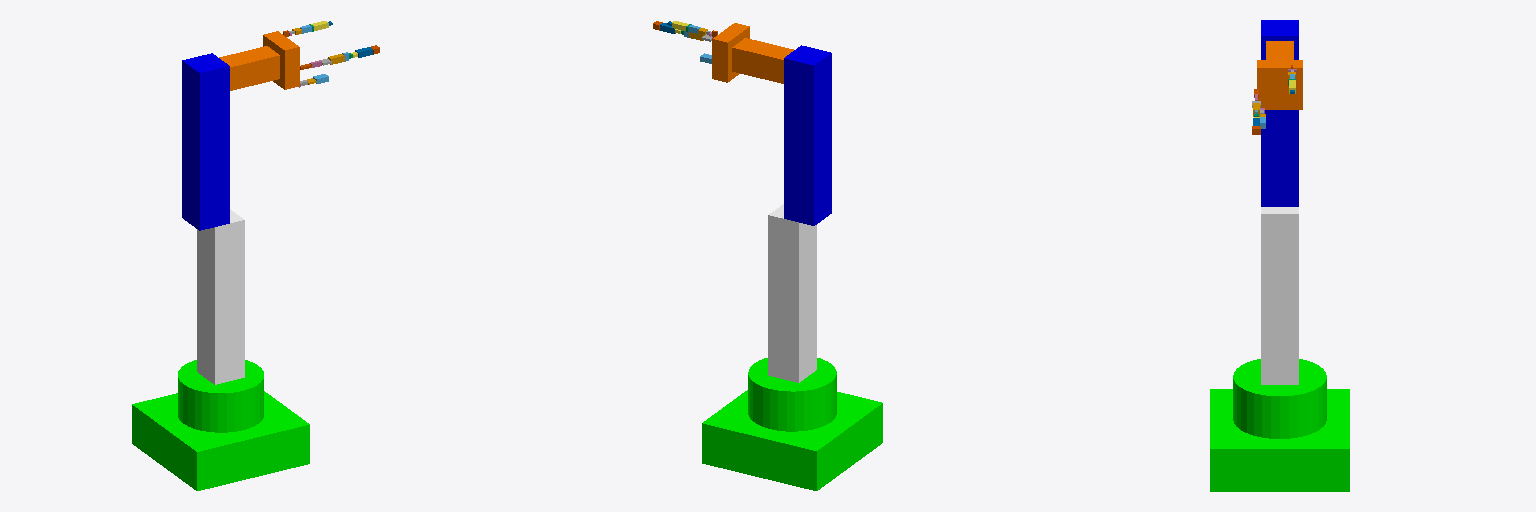
The robot description file, URDF, robot "robot":
<?xml version='1.0' encoding='utf-8'?>
<robot name="robot">
  <link name="base_link">
    <visual>
      <origin xyz="0 0 0.125" rpy="0 0 0" />
      <geometry>
        <box size="0.75 0.75 0.25" />
      </geometry>
      <material name="green" />
    </visual>
    <visual>
      <origin xyz="0 0 0.375" rpy="0 0 0" />
      <geometry>
        <cylinder length="0.25" radius="0.25" />
      </geometry>
      <material name="green">
        <color rgba="0 1 0 1" />
      </material>
    </visual>
    <collision>
      <geometry>
        <box size="0.75 0.75 0.5" />
      </geometry>
    </collision>
    <inertial>
      <mass value="0.5" />
      <inertia ixx="0.034" ixy="0.0" ixz="0.0" iyy="0.034" iyz="0.0" izz="0.034" />
    </inertial>
  </link>
  <link name="support_link">
    <visual>
      <origin xyz="0 0 0.5" rpy="0 0 0" />
      <geometry>
        <box size="0.2 0.2 1" />
      </geometry>
      <material name="white">
        <color rgba="1 1 1 1" />
      </material>
    </visual>
    <collision>
      <geometry>
        <box size="0.2 0.2 1" />
      </geometry>
    </collision>
    <inertial>
      <mass value="0.1" />
      <inertia ixx="0.01" ixy="0.0" ixz="0.0" iyy="0.01" iyz="0.0" izz="0.01" />
    </inertial>
  </link>
  <joint name="support_joint" type="continuous">
    <origin xyz="0 0 0.5" rpy="0 0 0" />
    <parent link="base_link" />
    <child link="support_link" />
    <axis xyz="0 0 1" />
  </joint>
  <link name="arm_link">
    <visual>
      <origin xyz="0 0 0.5" rpy="0 0 0" />
      <geometry>
        <box size="0.2 0.2 1" />
      </geometry>
      <material name="blue">
        <color rgba="0 0 1 1" />
      </material>
    </visual>
    <collision>
      <geometry>
        <box size="0.2 0.2 1" />
      </geometry>
    </collision>
    <inertial>
      <mass value="0.1" />
      <inertia ixx="0.01" ixy="0.0" ixz="0.0" iyy="0.01" iyz="0.0" izz="0.01" />
    </inertial>
  </link>
  <joint name="arm_joint" type="revolute">
    <origin xyz="-0.1 0 1" rpy="0 0 0" />
    <parent link="support_link" />
    <child link="arm_link" />
    <axis xyz="0 1 0" />
    <limit lower="-3.14" upper="3.14" effort="1.0" velocity="1.0" />
  </joint>
  <link name="wrist_link">
    <visual>
      <origin xyz="0 0 0.25" rpy="0 0 0" />
      <geometry>
        <box size="0.15 0.15 0.5" />
      </geometry>
      <material name="orange">
        <color rgba="1 0.5 0 1" />
      </material>
    </visual>
    <collision>
      <geometry>
        <box size="0.15 0.15 0.5" />
      </geometry>
    </collision>
    <inertial>
      <mass value="0.1" />
      <inertia ixx="0.01" ixy="0.0" ixz="0.0" iyy="0.01" iyz="0.0" izz="0.01" />
    </inertial>
  </link>
  <joint name="wrist_joint" type="fixed">
    <origin xyz="0 0 0.9" rpy="0 1.571 0" />
    <parent link="arm_link" />
    <child link="wrist_link" />
  </joint>
  <link name="palm_link">
    <visual>
      <origin xyz="0 0 0.05" rpy="0 0 0" />
      <geometry>
        <box size="0.25 0.25 0.1" />
      </geometry>
      <material name="orange" />
    </visual>
    <collision>
      <geometry>
        <box size="0.25 0.25 0.1" />
      </geometry>
    </collision>
    <inertial>
      <mass value="0.1" />
      <inertia ixx="0.01" ixy="0.0" ixz="0.0" iyy="0.01" iyz="0.0" izz="0.01" />
    </inertial>
  </link>
  <joint name="palm_joint" type="fixed">
    <origin xyz="0 0 0.45" rpy="0 0 0" />
    <parent link="wrist_link" />
    <child link="palm_link" />
  </joint>
  <link name="finger_link_0_0">
    <visual>
      <origin xyz="0 0 0.0165" rpy="0 0 0" />
      <geometry>
        <box size="0.038 0.012 0.033" />
      </geometry>
    </visual>
    <collision>
      <geometry>
        <box size="0.038 0.012 0.033" />
      </geometry>
    </collision>
    <inertial>
      <mass value="0.005" />
      <inertia ixx="0.0" iyy="0.0" izz="0.0" ixy="0" ixz="0" iyz="0" />
    </inertial>
  </link>
  <joint name="finger_joint_palm_link_to_finger_link_0_0" type="revolute">
    <origin xyz="-0.125 0.065 0.1" rpy="0 0 0" />
    <parent link="palm_link" />
    <child link="finger_link_0_0" />
    <axis xyz="0.0 -1.0 0.0" />
    <limit lower="-3.142" upper="3.142" effort="10" velocity="10" />
  </joint>
  <link name="finger_link_0_1">
    <visual>
      <origin xyz="0 0 0.0055" rpy="0 0 0" />
      <geometry>
        <box size="0.014 0.049 0.011" />
      </geometry>
    </visual>
    <collision>
      <geometry>
        <box size="0.014 0.049 0.011" />
      </geometry>
    </collision>
    <inertial>
      <mass value="0.002" />
      <inertia ixx="0.0" iyy="0.0" izz="0.0" ixy="0" ixz="0" iyz="0" />
    </inertial>
  </link>
  <joint name="finger_joint_finger_link_0_0_to_finger_link_0_1" type="revolute">
    <origin xyz="0.0 0.0 0.033" rpy="0 0 0" />
    <parent link="finger_link_0_0" />
    <child link="finger_link_0_1" />
    <axis xyz="0.0 1.0 0.0" />
    <limit lower="-3.142" upper="3.142" effort="10" velocity="10" />
  </joint>
  <link name="finger_link_0_2">
    <visual>
      <origin xyz="0 0 0.014" rpy="0 0 0" />
      <geometry>
        <box size="0.016 0.015 0.028" />
      </geometry>
    </visual>
    <collision>
      <geometry>
        <box size="0.016 0.015 0.028" />
      </geometry>
    </collision>
    <inertial>
      <mass value="0.002" />
      <inertia ixx="0.0" iyy="0.0" izz="0.0" ixy="0" ixz="0" iyz="0" />
    </inertial>
  </link>
  <joint name="finger_joint_finger_link_0_1_to_finger_link_0_2" type="revolute">
    <origin xyz="0.0 0.0 0.011" rpy="0 0 0" />
    <parent link="finger_link_0_1" />
    <child link="finger_link_0_2" />
    <axis xyz="1.0 0.0 0.0" />
    <limit lower="-3.142" upper="3.142" effort="10" velocity="10" />
  </joint>
  <link name="finger_link_0_3">
    <visual>
      <origin xyz="0 0 0.022" rpy="0 0 0" />
      <geometry>
        <box size="0.023 0.04 0.044" />
      </geometry>
    </visual>
    <collision>
      <geometry>
        <box size="0.023 0.04 0.044" />
      </geometry>
    </collision>
    <inertial>
      <mass value="0.012" />
      <inertia ixx="0.0" iyy="0.0" izz="0.0" ixy="0" ixz="0" iyz="0" />
    </inertial>
  </link>
  <joint name="finger_joint_finger_link_0_2_to_finger_link_0_3" type="revolute">
    <origin xyz="0.0 0.0 0.028" rpy="0 0 0" />
    <parent link="finger_link_0_2" />
    <child link="finger_link_0_3" />
    <axis xyz="1.0 0.0 0.0" />
    <limit lower="-3.142" upper="3.142" effort="10" velocity="10" />
  </joint>
  <link name="finger_link_0_4">
    <visual>
      <origin xyz="0 0 0.0325" rpy="0 0 0" />
      <geometry>
        <box size="0.034 0.025 0.065" />
      </geometry>
    </visual>
    <collision>
      <geometry>
        <box size="0.034 0.025 0.065" />
      </geometry>
    </collision>
    <inertial>
      <mass value="0.017" />
      <inertia ixx="0.0" iyy="0.0" izz="0.0" ixy="0" ixz="0" iyz="0" />
    </inertial>
  </link>
  <joint name="finger_joint_finger_link_0_3_to_finger_link_0_4" type="revolute">
    <origin xyz="0.0 0.0 0.044" rpy="0 0 0" />
    <parent link="finger_link_0_3" />
    <child link="finger_link_0_4" />
    <axis xyz="0.0 1.0 0.0" />
    <limit lower="-3.142" upper="3.142" effort="10" velocity="10" />
  </joint>
  <link name="finger_link_0_5">
    <visual>
      <origin xyz="0 0 0.006" rpy="0 0 0" />
      <geometry>
        <box size="0.032 0.043 0.012" />
      </geometry>
    </visual>
    <collision>
      <geometry>
        <box size="0.032 0.043 0.012" />
      </geometry>
    </collision>
    <inertial>
      <mass value="0.005" />
      <inertia ixx="0.0" iyy="0.0" izz="0.0" ixy="0" ixz="0" iyz="0" />
    </inertial>
  </link>
  <joint name="finger_joint_finger_link_0_4_to_finger_link_0_5" type="revolute">
    <origin xyz="0.0 0.0 0.065" rpy="0 0 0" />
    <parent link="finger_link_0_4" />
    <child link="finger_link_0_5" />
    <axis xyz="1.0 0.0 0.0" />
    <limit lower="-3.142" upper="3.142" effort="10" velocity="10" />
  </joint>
  <link name="finger_link_0_6">
    <visual>
      <origin xyz="0 0 0.0485" rpy="0 0 0" />
      <geometry>
        <box size="0.032 0.037 0.097" />
      </geometry>
    </visual>
    <collision>
      <geometry>
        <box size="0.032 0.037 0.097" />
      </geometry>
    </collision>
    <inertial>
      <mass value="0.034" />
      <inertia ixx="0.0" iyy="0.0" izz="0.0" ixy="0" ixz="0" iyz="0" />
    </inertial>
  </link>
  <joint name="finger_joint_finger_link_0_5_to_finger_link_0_6" type="revolute">
    <origin xyz="0.0 0.0 0.012" rpy="0 0 0" />
    <parent link="finger_link_0_5" />
    <child link="finger_link_0_6" />
    <axis xyz="0.0 1.0 0.0" />
    <limit lower="-3.142" upper="3.142" effort="10" velocity="10" />
  </joint>
  <link name="finger_link_0_7">
    <visual>
      <origin xyz="0 0 0.015" rpy="0 0 0" />
      <geometry>
        <box size="0.014 0.026 0.03" />
      </geometry>
    </visual>
    <collision>
      <geometry>
        <box size="0.014 0.026 0.03" />
      </geometry>
    </collision>
    <inertial>
      <mass value="0.003" />
      <inertia ixx="0.0" iyy="0.0" izz="0.0" ixy="0" ixz="0" iyz="0" />
    </inertial>
  </link>
  <joint name="finger_joint_finger_link_0_6_to_finger_link_0_7" type="revolute">
    <origin xyz="0.0 0.0 0.097" rpy="0 0 0" />
    <parent link="finger_link_0_6" />
    <child link="finger_link_0_7" />
    <axis xyz="1.0 0.0 0.0" />
    <limit lower="-3.142" upper="3.142" effort="10" velocity="10" />
  </joint>
  <link name="finger_link_1_0">
    <visual>
      <origin xyz="0 0 0.0365" rpy="0 0 0" />
      <geometry>
        <box size="0.017 0.025 0.073" />
      </geometry>
    </visual>
    <collision>
      <geometry>
        <box size="0.017 0.025 0.073" />
      </geometry>
    </collision>
    <inertial>
      <mass value="0.009" />
      <inertia ixx="0.0" iyy="0.0" izz="0.0" ixy="0" ixz="0" iyz="0" />
    </inertial>
  </link>
  <joint name="finger_joint_palm_link_to_finger_link_1_0" type="revolute">
    <origin xyz="0.01 -0.125 0.1" rpy="0 0 0" />
    <parent link="palm_link" />
    <child link="finger_link_1_0" />
    <axis xyz="1.0 0.0 0.0" />
    <limit lower="-3.142" upper="3.142" effort="10" velocity="10" />
  </joint>
  <link name="finger_link_1_1">
    <visual>
      <origin xyz="0 0 0.0345" rpy="0 0 0" />
      <geometry>
        <box size="0.029 0.019 0.069" />
      </geometry>
    </visual>
    <collision>
      <geometry>
        <box size="0.029 0.019 0.069" />
      </geometry>
    </collision>
    <inertial>
      <mass value="0.011" />
      <inertia ixx="0.0" iyy="0.0" izz="0.0" ixy="0" ixz="0" iyz="0" />
    </inertial>
  </link>
  <joint name="finger_joint_finger_link_1_0_to_finger_link_1_1" type="revolute">
    <origin xyz="0.0 0.0 0.073" rpy="0 0 0" />
    <parent link="finger_link_1_0" />
    <child link="finger_link_1_1" />
    <axis xyz="0.0 1.0 0.0" />
    <limit lower="-3.142" upper="3.142" effort="10" velocity="10" />
  </joint>
  <link name="finger_link_1_2">
    <visual>
      <origin xyz="0 0 0.028" rpy="0 0 0" />
      <geometry>
        <box size="0.014 0.049 0.056" />
      </geometry>
    </visual>
    <collision>
      <geometry>
        <box size="0.014 0.049 0.056" />
      </geometry>
    </collision>
    <inertial>
      <mass value="0.012" />
      <inertia ixx="0.0" iyy="0.0" izz="0.0" ixy="0" ixz="0" iyz="0" />
    </inertial>
  </link>
  <joint name="finger_joint_finger_link_1_1_to_finger_link_1_2" type="revolute">
    <origin xyz="0.0 0.0 0.069" rpy="0 0 0" />
    <parent link="finger_link_1_1" />
    <child link="finger_link_1_2" />
    <axis xyz="1.0 0.0 0.0" />
    <limit lower="-3.142" upper="3.142" effort="10" velocity="10" />
  </joint>
  <link name="finger_link_1_3">
    <visual>
      <origin xyz="0 0 0.045" rpy="0 0 0" />
      <geometry>
        <box size="0.039 0.033 0.09" />
      </geometry>
    </visual>
    <collision>
      <geometry>
        <box size="0.039 0.033 0.09" />
      </geometry>
    </collision>
    <inertial>
      <mass value="0.035" />
      <inertia ixx="0.0" iyy="0.0" izz="0.0" ixy="0" ixz="0" iyz="0" />
    </inertial>
  </link>
  <joint name="finger_joint_finger_link_1_2_to_finger_link_1_3" type="revolute">
    <origin xyz="0.0 0.0 0.056" rpy="0 0 0" />
    <parent link="finger_link_1_2" />
    <child link="finger_link_1_3" />
    <axis xyz="1.0 1.0 0.0" />
    <limit lower="-3.142" upper="3.142" effort="10" velocity="10" />
  </joint>
  <link name="finger_link_1_4">
    <visual>
      <origin xyz="0 0 0.0175" rpy="0 0 0" />
      <geometry>
        <box size="0.048 0.017 0.035" />
      </geometry>
    </visual>
    <collision>
      <geometry>
        <box size="0.048 0.017 0.035" />
      </geometry>
    </collision>
    <inertial>
      <mass value="0.009" />
      <inertia ixx="0.0" iyy="0.0" izz="0.0" ixy="0" ixz="0" iyz="0" />
    </inertial>
  </link>
  <joint name="finger_joint_finger_link_1_3_to_finger_link_1_4" type="revolute">
    <origin xyz="0.0 0.0 0.09" rpy="0 0 0" />
    <parent link="finger_link_1_3" />
    <child link="finger_link_1_4" />
    <axis xyz="1.0 1.0 0.0" />
    <limit lower="-3.142" upper="3.142" effort="10" velocity="10" />
  </joint>
  <link name="finger_link_1_5">
    <visual>
      <origin xyz="0 0 0.011" rpy="0 0 0" />
      <geometry>
        <box size="0.023 0.024 0.022" />
      </geometry>
    </visual>
    <collision>
      <geometry>
        <box size="0.023 0.024 0.022" />
      </geometry>
    </collision>
    <inertial>
      <mass value="0.004" />
      <inertia ixx="0.0" iyy="0.0" izz="0.0" ixy="0" ixz="0" iyz="0" />
    </inertial>
  </link>
  <joint name="finger_joint_finger_link_1_4_to_finger_link_1_5" type="revolute">
    <origin xyz="0.0 0.0 0.035" rpy="0 0 0" />
    <parent link="finger_link_1_4" />
    <child link="finger_link_1_5" />
    <axis xyz="0.0 1.0 0.0" />
    <limit lower="-3.142" upper="3.142" effort="10" velocity="10" />
  </joint>
  <link name="finger_link_1_6">
    <visual>
      <origin xyz="0 0 0.0175" rpy="0 0 0" />
      <geometry>
        <box size="0.018 0.032 0.035" />
      </geometry>
    </visual>
    <collision>
      <geometry>
        <box size="0.018 0.032 0.035" />
      </geometry>
    </collision>
    <inertial>
      <mass value="0.006" />
      <inertia ixx="0.0" iyy="0.0" izz="0.0" ixy="0" ixz="0" iyz="0" />
    </inertial>
  </link>
  <joint name="finger_joint_finger_link_1_5_to_finger_link_1_6" type="revolute">
    <origin xyz="0.0 0.0 0.022" rpy="0 0 0" />
    <parent link="finger_link_1_5" />
    <child link="finger_link_1_6" />
    <axis xyz="0.0 1.0 0.0" />
    <limit lower="-3.142" upper="3.142" effort="10" velocity="10" />
  </joint>
  <link name="finger_link_1_7">
    <visual>
      <origin xyz="0 0 0.0485" rpy="0 0 0" />
      <geometry>
        <box size="0.036 0.038 0.097" />
      </geometry>
    </visual>
    <collision>
      <geometry>
        <box size="0.036 0.038 0.097" />
      </geometry>
    </collision>
    <inertial>
      <mass value="0.04" />
      <inertia ixx="0.0" iyy="0.0" izz="0.0" ixy="0" ixz="0" iyz="0" />
    </inertial>
  </link>
  <joint name="finger_joint_finger_link_1_6_to_finger_link_1_7" type="revolute">
    <origin xyz="0.0 0.0 0.035" rpy="0 0 0" />
    <parent link="finger_link_1_6" />
    <child link="finger_link_1_7" />
    <axis xyz="1.0 0.0 0.0" />
    <limit lower="-3.142" upper="3.142" effort="10" velocity="10" />
  </joint>
  <link name="finger_link_1_8">
    <visual>
      <origin xyz="0 0 0.022" rpy="0 0 0" />
      <geometry>
        <box size="0.032 0.043 0.044" />
      </geometry>
    </visual>
    <collision>
      <geometry>
        <box size="0.032 0.043 0.044" />
      </geometry>
    </collision>
    <inertial>
      <mass value="0.018" />
      <inertia ixx="0.0" iyy="0.0" izz="0.0" ixy="0" ixz="0" iyz="0" />
    </inertial>
  </link>
  <joint name="finger_joint_finger_link_1_7_to_finger_link_1_8" type="revolute">
    <origin xyz="0.0 0.0 0.097" rpy="0 0 0" />
    <parent link="finger_link_1_7" />
    <child link="finger_link_1_8" />
    <axis xyz="1.0 0.0 0.0" />
    <limit lower="-3.142" upper="3.142" effort="10" velocity="10" />
  </joint>
  <link name="finger_link_2_0">
    <visual>
      <origin xyz="0 0 0.008" rpy="0 0 0" />
      <geometry>
        <box size="0.023 0.037 0.016" />
      </geometry>
    </visual>
    <collision>
      <geometry>
        <box size="0.023 0.037 0.016" />
      </geometry>
    </collision>
    <inertial>
      <mass value="0.004" />
      <inertia ixx="0.0" iyy="0.0" izz="0.0" ixy="0" ixz="0" iyz="0" />
    </inertial>
  </link>
  <joint name="finger_joint_palm_link_to_finger_link_2_0" type="revolute">
    <origin xyz="0.125 -0.098 0.1" rpy="0 0 0" />
    <parent link="palm_link" />
    <child link="finger_link_2_0" />
    <axis xyz="0.0 1.0 0.0" />
    <limit lower="-3.142" upper="3.142" effort="10" velocity="10" />
  </joint>
  <link name="finger_link_2_1">
    <visual>
      <origin xyz="0 0 0.023" rpy="0 0 0" />
      <geometry>
        <box size="0.022 0.024 0.046" />
      </geometry>
    </visual>
    <collision>
      <geometry>
        <box size="0.022 0.024 0.046" />
      </geometry>
    </collision>
    <inertial>
      <mass value="0.007" />
      <inertia ixx="0.0" iyy="0.0" izz="0.0" ixy="0" ixz="0" iyz="0" />
    </inertial>
  </link>
  <joint name="finger_joint_finger_link_2_0_to_finger_link_2_1" type="revolute">
    <origin xyz="0.0 0.0 0.016" rpy="0 0 0" />
    <parent link="finger_link_2_0" />
    <child link="finger_link_2_1" />
    <axis xyz="1.0 1.0 0.0" />
    <limit lower="-3.142" upper="3.142" effort="10" velocity="10" />
  </joint>
  <link name="finger_link_2_2">
    <visual>
      <origin xyz="0 0 0.0265" rpy="0 0 0" />
      <geometry>
        <box size="0.012 0.046 0.053" />
      </geometry>
    </visual>
    <collision>
      <geometry>
        <box size="0.012 0.046 0.053" />
      </geometry>
    </collision>
    <inertial>
      <mass value="0.009" />
      <inertia ixx="0.0" iyy="0.0" izz="0.0" ixy="0" ixz="0" iyz="0" />
    </inertial>
  </link>
  <joint name="finger_joint_finger_link_2_1_to_finger_link_2_2" type="revolute">
    <origin xyz="0.0 0.0 0.046" rpy="0 0 0" />
    <parent link="finger_link_2_1" />
    <child link="finger_link_2_2" />
    <axis xyz="1.0 0.0 0.0" />
    <limit lower="-3.142" upper="3.142" effort="10" velocity="10" />
  </joint>
  <link name="finger_link_2_3">
    <visual>
      <origin xyz="0 0 0.0405" rpy="0 0 0" />
      <geometry>
        <box size="0.031 0.048 0.081" />
      </geometry>
    </visual>
    <collision>
      <geometry>
        <box size="0.031 0.048 0.081" />
      </geometry>
    </collision>
    <inertial>
      <mass value="0.036" />
      <inertia ixx="0.0" iyy="0.0" izz="0.0" ixy="0" ixz="0" iyz="0" />
    </inertial>
  </link>
  <joint name="finger_joint_finger_link_2_2_to_finger_link_2_3" type="revolute">
    <origin xyz="0.0 0.0 0.053" rpy="0 0 0" />
    <parent link="finger_link_2_2" />
    <child link="finger_link_2_3" />
    <axis xyz="0.0 1.0 0.0" />
    <limit lower="-3.142" upper="3.142" effort="10" velocity="10" />
  </joint>
</robot>

--- Facts derived from the render (not from the file) ---
The picture shows the robot from 3 angles, left to right: view 1: azimuth 30°, elevation 25°; view 2: azimuth 150°, elevation 25°; view 3: azimuth 270°, elevation 25°; orthographic projection.
Model robot with 26 links and 25 joints (22 revolute, 1 continuous, 2 fixed), rooted at base_link, posed all joints at 0.
Visible links, largest first — view 1: base_link, arm_link, support_link, wrist_link, palm_link; view 2: base_link, arm_link, support_link, wrist_link, palm_link; view 3: base_link, support_link, arm_link, palm_link, wrist_link.
Link boxes in pixels (x1,y1,x2,y2): base_link: [132, 360, 309, 490]; arm_link: [182, 53, 229, 230]; support_link: [197, 209, 244, 384]; wrist_link: [219, 46, 279, 90]; palm_link: [263, 31, 299, 89]; base_link: [702, 358, 882, 490]; arm_link: [784, 45, 831, 225]; support_link: [768, 204, 816, 382]; wrist_link: [732, 38, 793, 83]; palm_link: [712, 23, 749, 82]; base_link: [1210, 359, 1349, 491]; support_link: [1261, 207, 1298, 384]; arm_link: [1261, 20, 1298, 206]; palm_link: [1257, 60, 1302, 109]; wrist_link: [1266, 41, 1293, 59].
Size in the robot's own frame: 1.35 by 0.75 by 2.54 metres.
Geometry: primitives only (box / cylinder / sphere), no mesh files.
